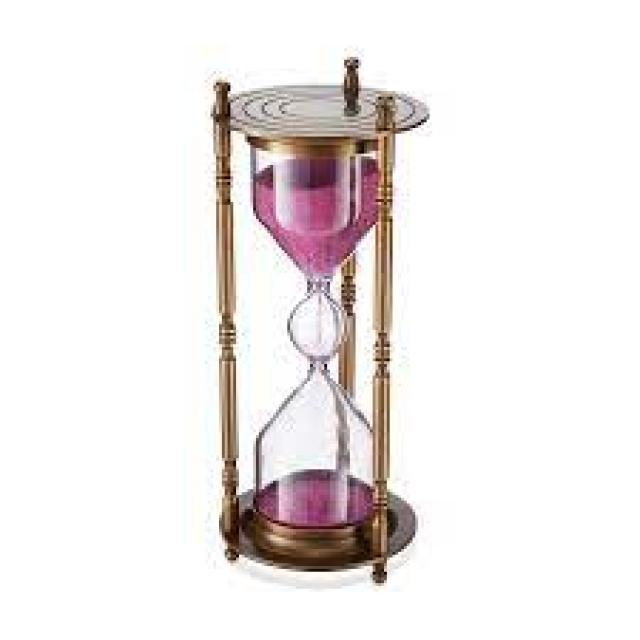clock: (188, 63, 446, 583)
